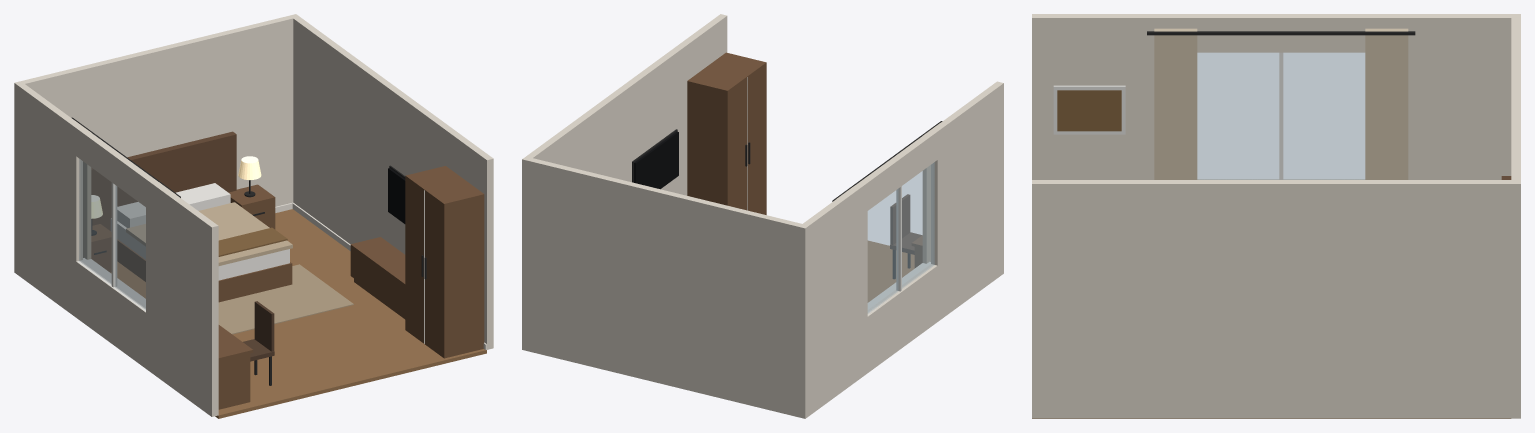
The model's file is room-4.glb.
The picture shows the model from 3 angles, left to right: view 1: azimuth 30°, elevation 25°; view 2: azimuth 150°, elevation 25°; view 3: azimuth 270°, elevation 25°; orthographic projection. The views are drawn at different scales.
Parts seen in each view (by area): view 1: wall, wood, floor, glass, headboard, rug, linen, blanket, window_frame, chair, runner, curtain (+4 smaller); view 2: wall, wood, glass, screen, floor, window_frame, chair, curtain, metal; view 3: wall, glass, curtain, runner, window_frame, metal, floor.
Boxes of the visible parts, x1=… form: wall: x1=14, y1=14, x2=493, y2=416; wood: x1=91, y1=166, x2=484, y2=409; floor: x1=111, y1=209, x2=486, y2=418; glass: x1=79, y1=159, x2=145, y2=309; headboard: x1=91, y1=131, x2=236, y2=230; rug: x1=218, y1=264, x2=353, y2=334; linen: x1=110, y1=183, x2=289, y2=280; blanket: x1=126, y1=202, x2=292, y2=265; window_frame: x1=77, y1=182, x2=145, y2=311; chair: x1=243, y1=301, x2=274, y2=361; runner: x1=218, y1=227, x2=287, y2=256; curtain: x1=77, y1=122, x2=175, y2=259; wall: x1=522, y1=14, x2=1003, y2=418; wood: x1=687, y1=52, x2=922, y2=267; glass: x1=867, y1=162, x2=934, y2=313; screen: x1=634, y1=131, x2=678, y2=189; floor: x1=867, y1=240, x2=914, y2=302; window_frame: x1=867, y1=186, x2=930, y2=315; chair: x1=890, y1=194, x2=921, y2=254; curtain: x1=837, y1=123, x2=939, y2=263; metal: x1=632, y1=121, x2=942, y2=279; wall: x1=1032, y1=14, x2=1520, y2=418; glass: x1=1197, y1=52, x2=1365, y2=179; curtain: x1=1154, y1=28, x2=1408, y2=179; runner: x1=1057, y1=90, x2=1121, y2=131; window_frame: x1=1053, y1=52, x2=1283, y2=179; metal: x1=1147, y1=31, x2=1415, y2=35; floor: x1=1032, y1=418, x2=1510, y2=418.
Size of the model in its own units: 4.2 by 2.75 by 5.1.
